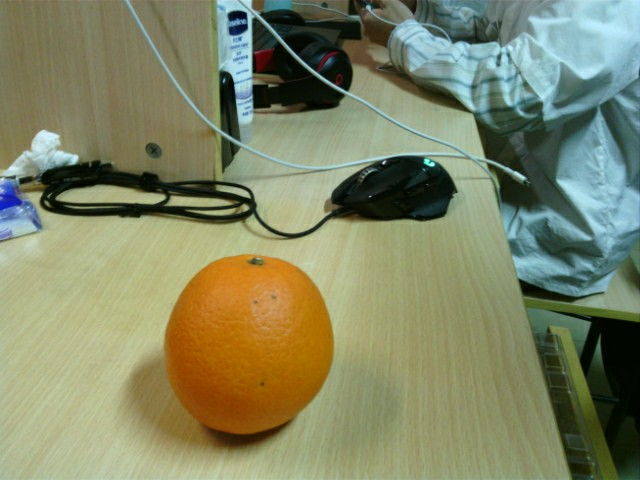normal_orange: (166, 253, 336, 435)
